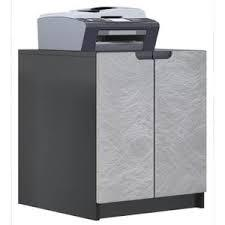printer: (36, 5, 162, 53)
